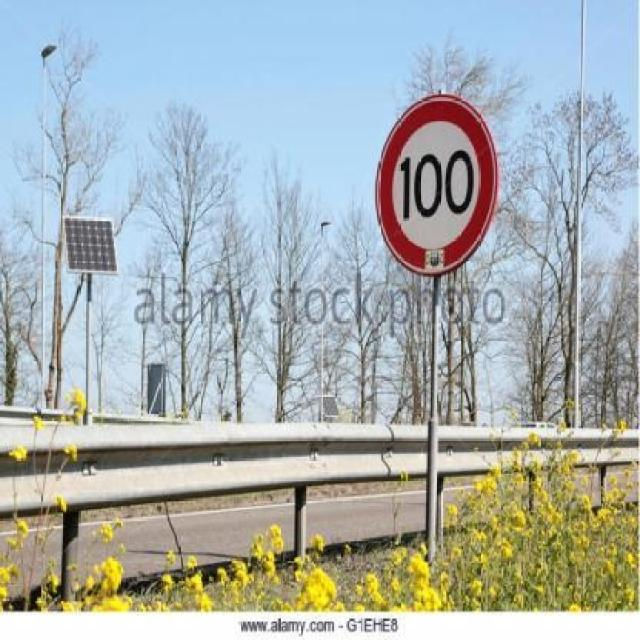forb_speed_over_100: (378, 99, 492, 273)
